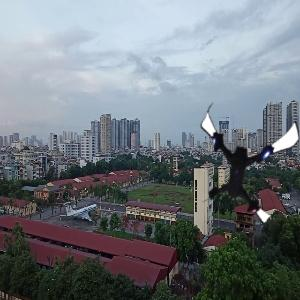drone: (185, 104, 297, 216)
